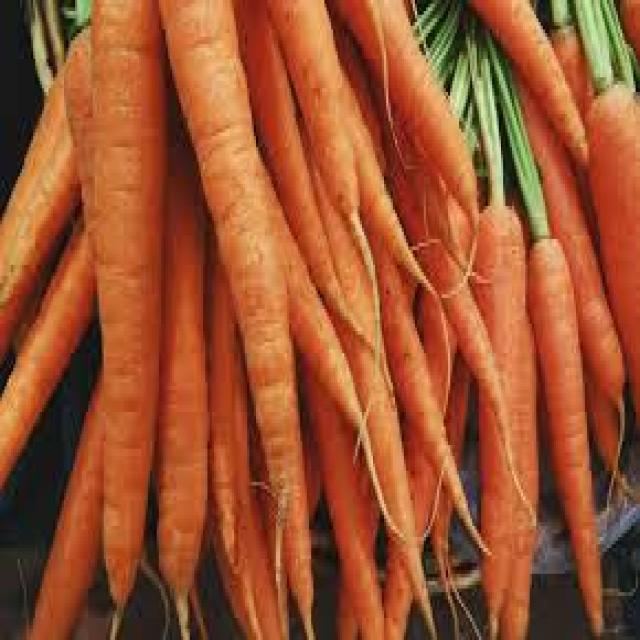Stale_Carrot: (268, 0, 367, 261)
